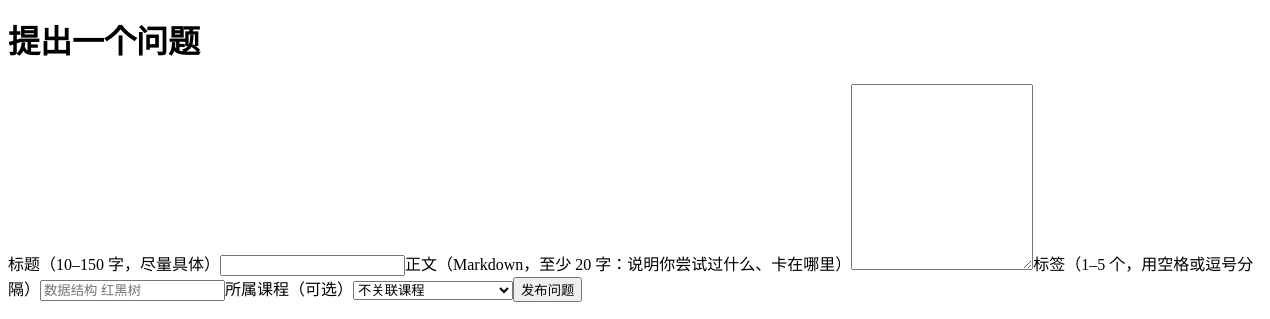
Test: AskPage › 发布成功后跳到新问题详情页
In the field labelled "标题（10–150 字，尽量具体）": (312, 265) left=220, top=255, right=405, bottom=276, type "发布成功要跳转"
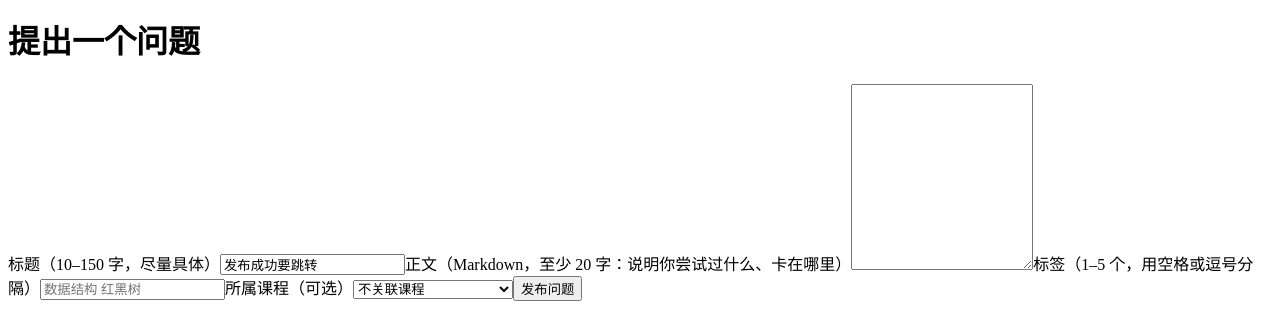
In the text box labelled "正文（Markdown，至少 20 字：说明你尝试过什么、卡在哪里）": (942, 177) left=851, top=84, right=1033, bottom=270, type "正文内容足够长，说明我尝试过什么、卡在哪里。"
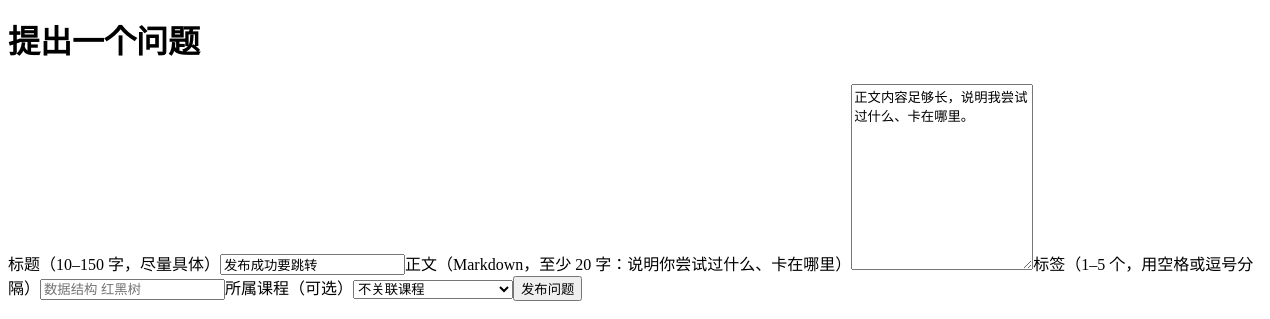
Click the button "发布问题": (548, 288) left=513, top=276, right=582, bottom=301
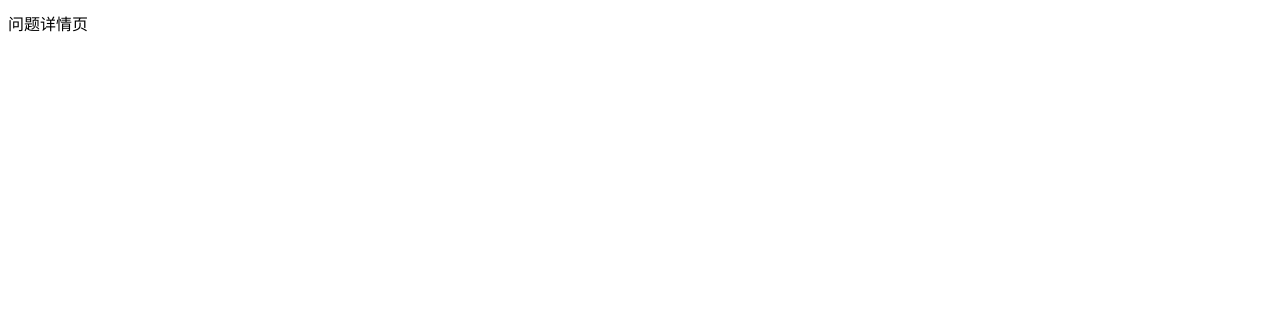
Expected: the text "问题详情页" is shown, left=8, top=16, right=88, bottom=33
